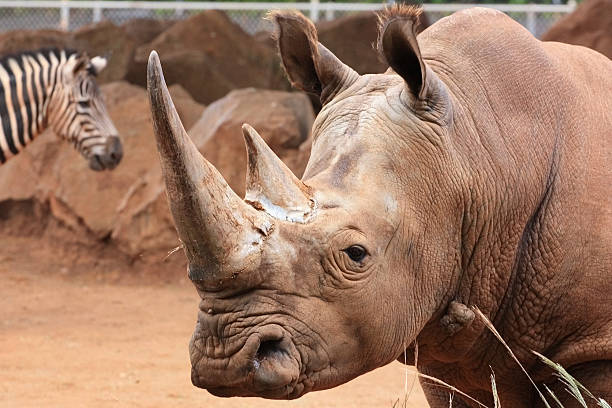rhino: (126, 7, 537, 408)
